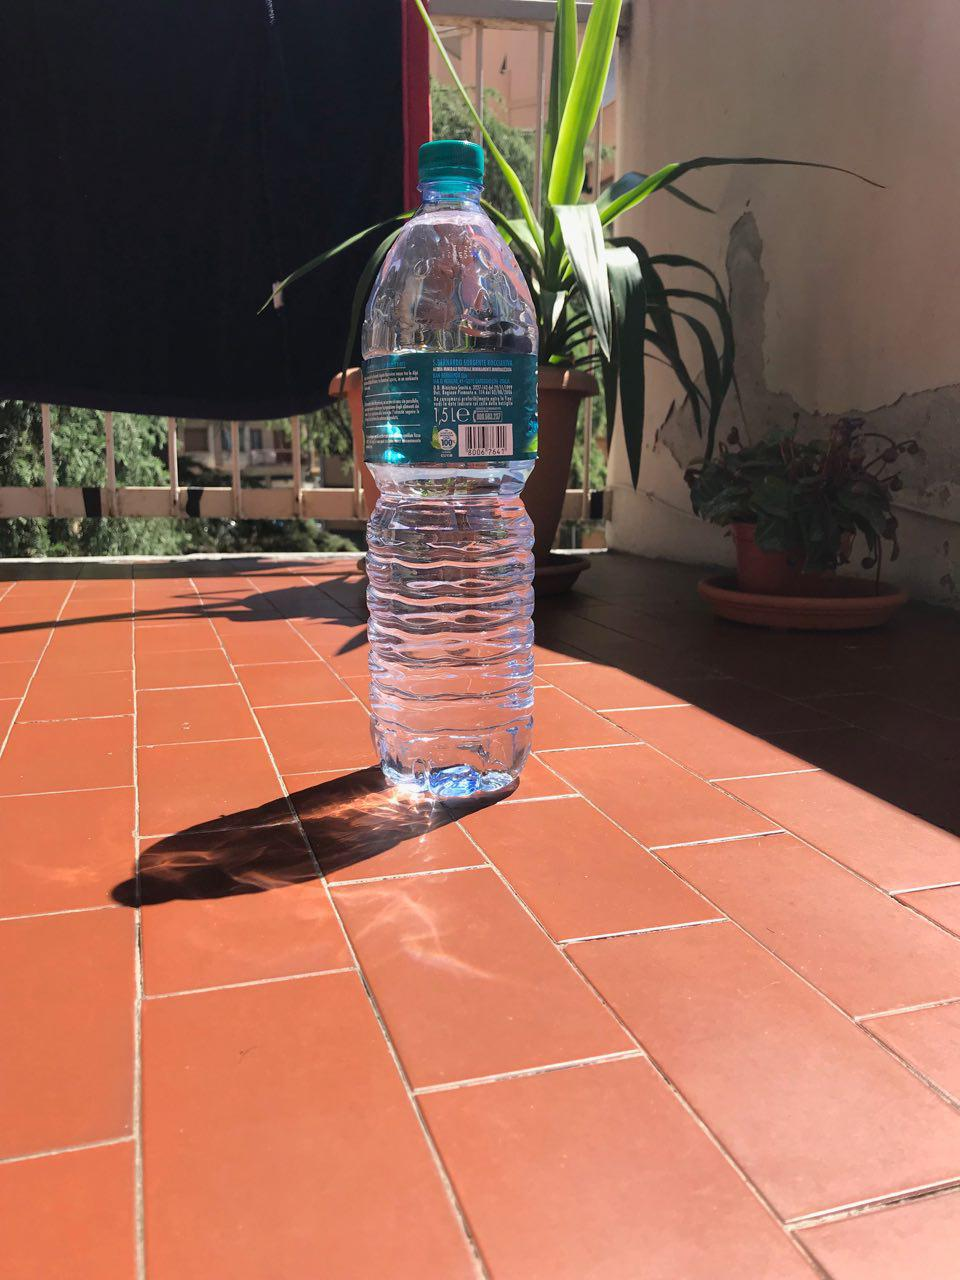san_bernardo: (360, 139, 539, 798)
